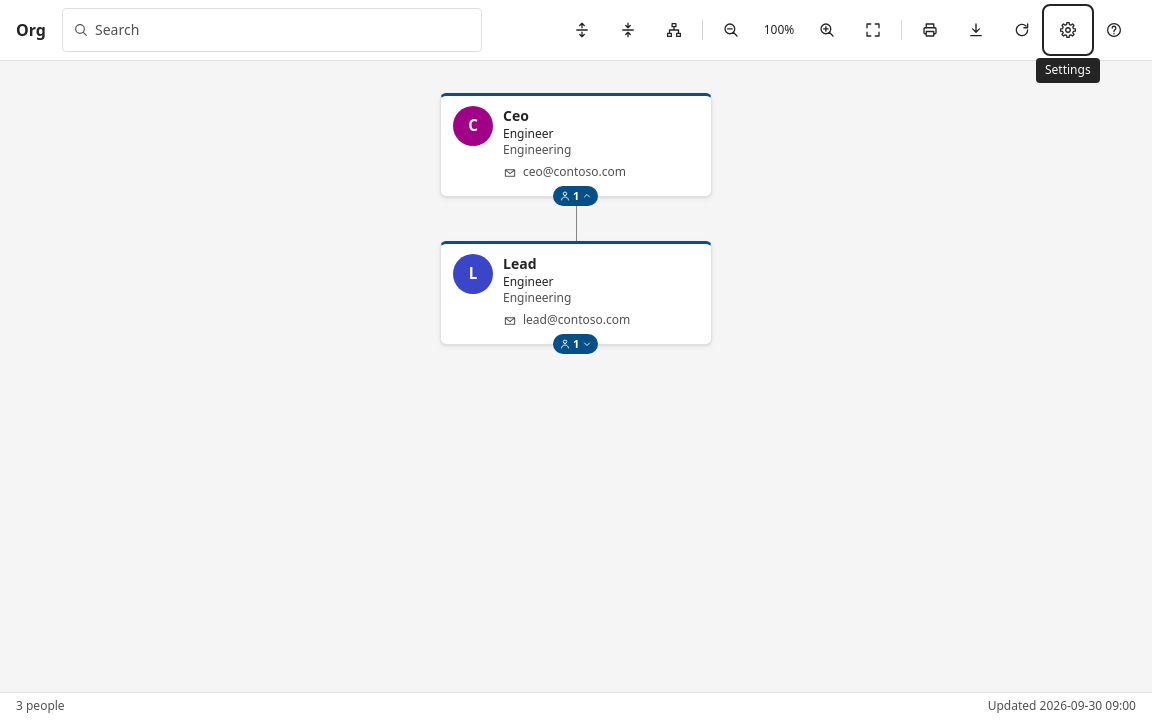
OrgChartPage › the settings › change who is in the chart at once, say so beside the count, and are remembered
The image size is (1152, 720).
Expected: the footer is shown, x1=0 y1=692 x2=1151 y2=719
Expected: the footer does not show ""
Click the button "Settings". click: point(1068, 30)
box: x1=1046 y1=8 x2=1090 y2=52
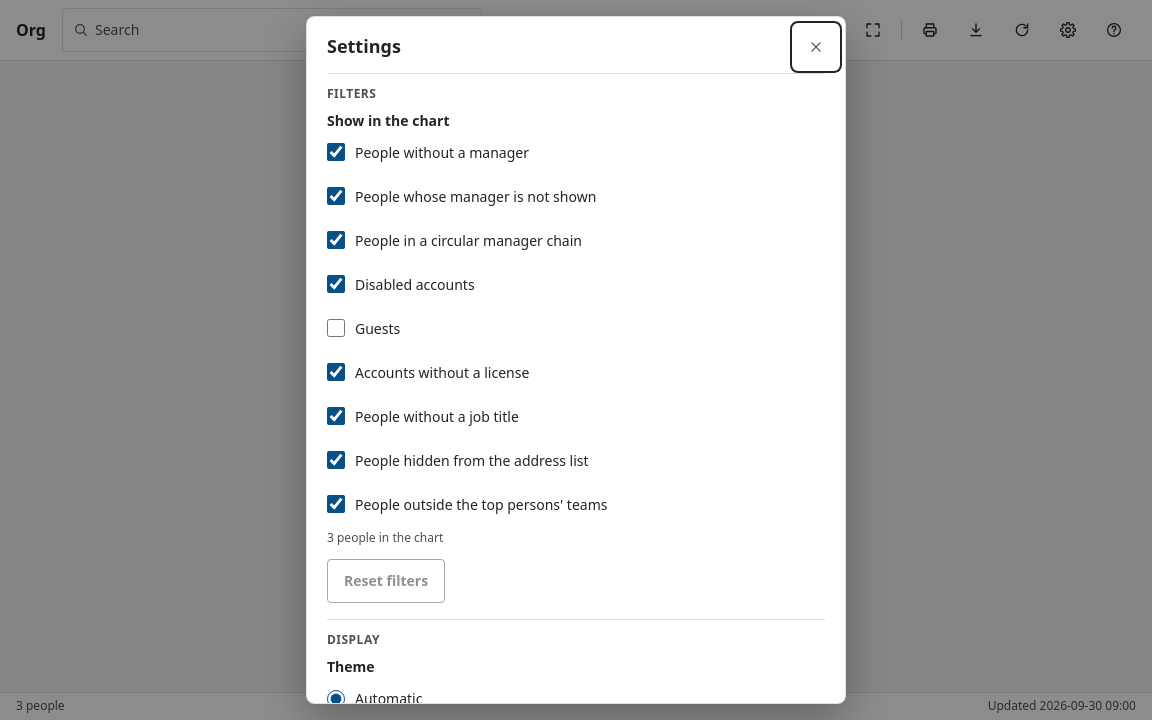
Expected: the text "3 people in the chart" is shown, x1=327 y1=529 x2=443 y2=546
Click the checkbox labelled "Guests". click: point(336, 328)
box: x1=327 y1=319 x2=345 y2=337
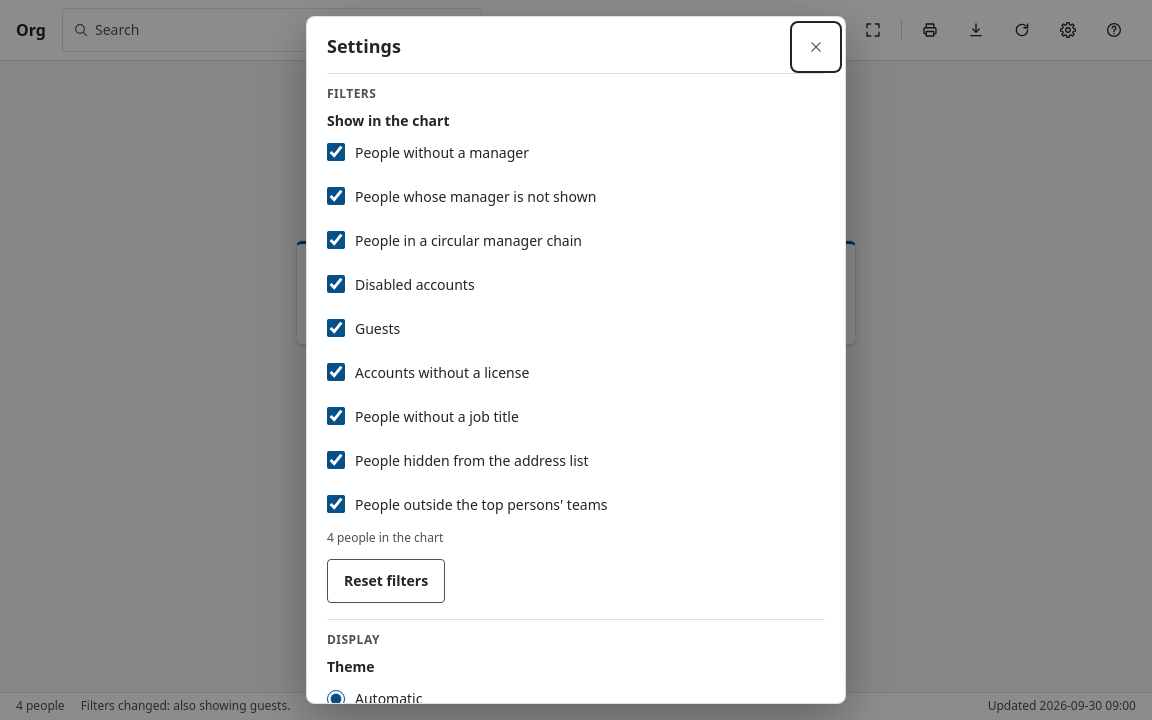
Expected: the list item "Guest" is shown, x1=296 y1=241 x2=568 y2=345
Expected: the footer shows "4 people", x1=16 y1=697 x2=65 y2=714
Expected: the footer shows "Filters changed: also showing guests.", x1=81 y1=697 x2=290 y2=714
Click the button "Reset filters". click: point(386, 581)
box: x1=327 y1=559 x2=445 y2=603
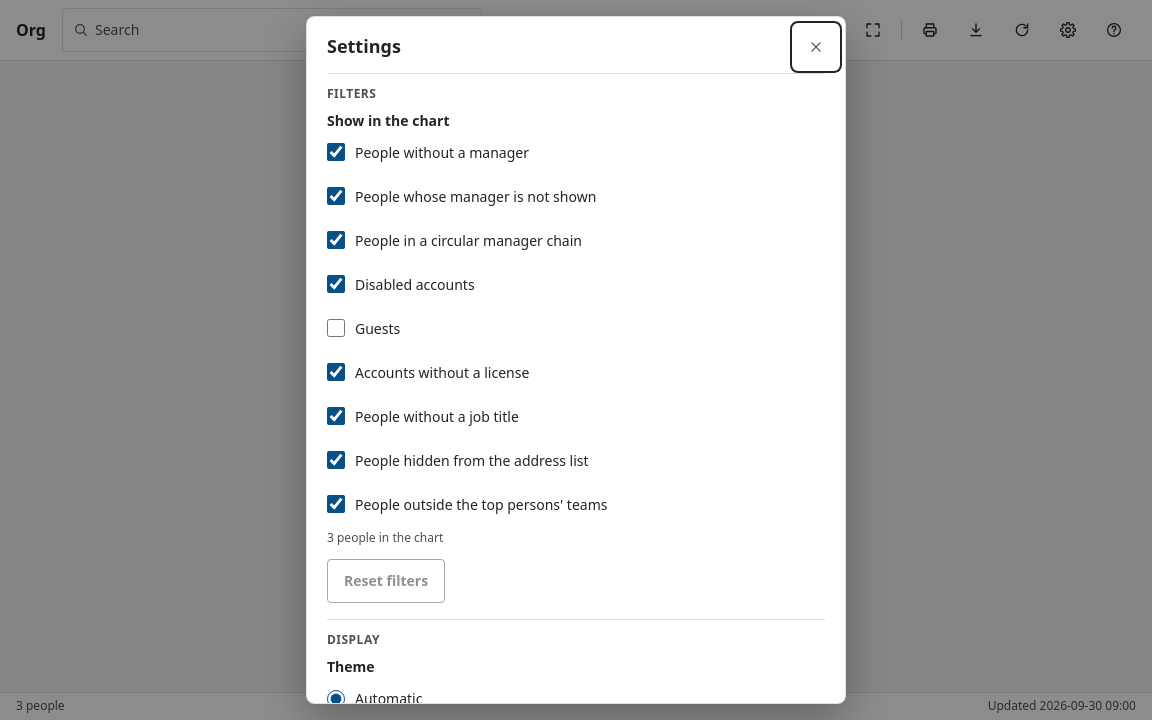
Expected: the footer shows "3 people", x1=16 y1=697 x2=65 y2=714
Expected: the text "Filters changed" is gone
